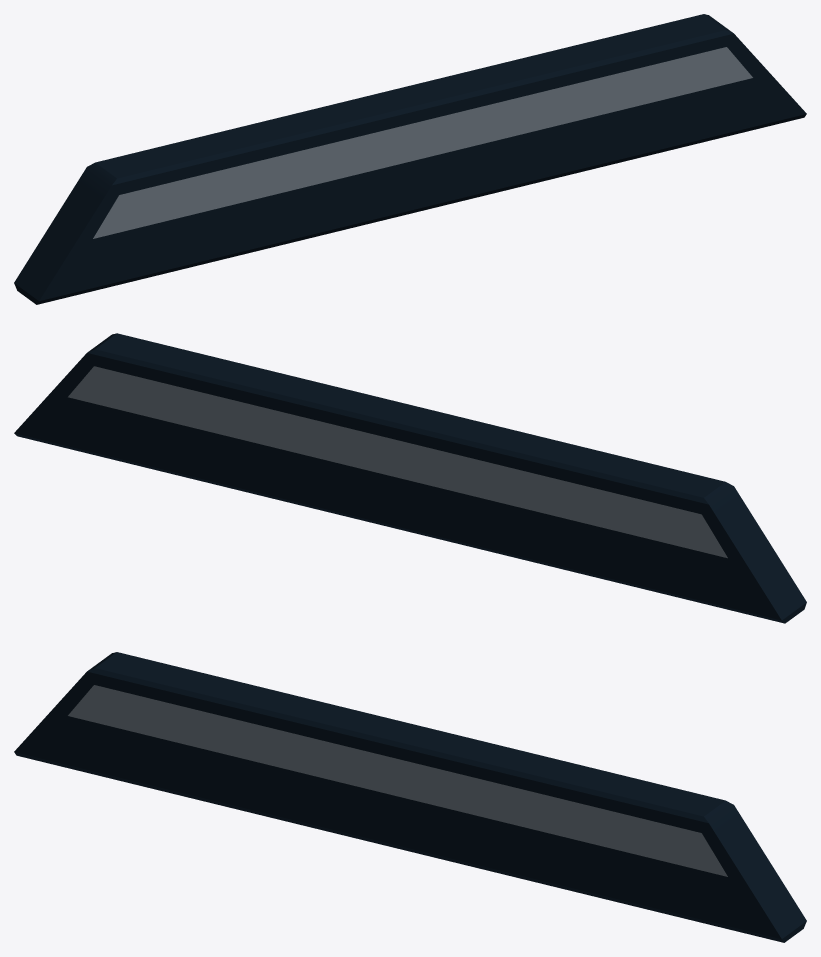
Rendered from Module_Ss_ass_stru3.FBX.
The picture shows the model from 3 angles, top to bottom: view 1: azimuth 30°, elevation 25°; view 2: azimuth 150°, elevation 25°; view 3: azimuth 330°, elevation 25°; orthographic projection.
Visible parts, largest first — view 1: Module_Ss_ass_stru3; view 2: Module_Ss_ass_stru3; view 3: Module_Ss_ass_stru3.
Boxes of the visible parts, bbox=[...] form: Module_Ss_ass_stru3: bbox=[14, 14, 806, 304]; Module_Ss_ass_stru3: bbox=[14, 333, 806, 623]; Module_Ss_ass_stru3: bbox=[14, 652, 806, 942].
Size of the model in its own units: 82.16 by 11.01 by 4.65.
